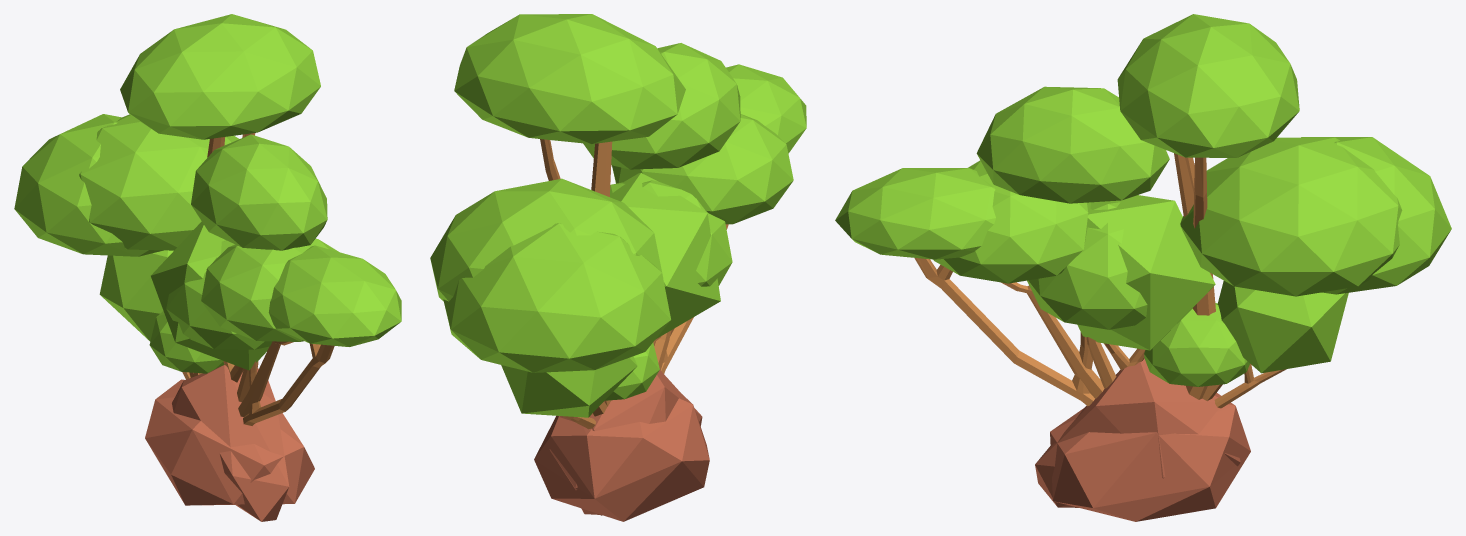
File: nature.glb
The picture shows the model from 3 angles, left to right: view 1: azimuth 30°, elevation 25°; view 2: azimuth 150°, elevation 25°; view 3: azimuth 270°, elevation 25°; orthographic projection. The views are drawn at different scales.
Parts seen in each view (by area): view 1: Tree4_Leaves, Tree2_Leaves, Rock1_Rock, Tree3_Leaves, Rock3_Rock, Tree1_Leaves, Tree4_Tree, Tree2_Tree; view 2: Tree4_Leaves, Tree2_Leaves, Rock1_Rock, Tree3_Leaves, Tree1_Leaves, Rock3_Rock, Tree4_Tree, Tree2_Tree; view 3: Tree4_Leaves, Tree2_Leaves, Tree3_Leaves, Rock1_Rock, Tree1_Leaves, Rock3_Rock, Tree4_Tree, Tree2_Tree, Tree3_Tree, Tree1_Tree.
Boxes of the visible parts, x1,y1,x2,y2 form: Tree4_Leaves: (14,14,401,346); Tree2_Leaves: (79,114,338,341); Rock1_Rock: (145,379,314,505); Tree3_Leaves: (99,221,268,370); Rock3_Rock: (172,365,289,521); Tree1_Leaves: (149,240,272,373); Tree4_Tree: (193,133,334,425); Tree2_Tree: (189,341,293,416); Tree4_Leaves: (443,14,806,372); Tree2_Leaves: (430,114,793,301); Rock1_Rock: (534,394,709,521); Tree3_Leaves: (501,173,720,417); Tree1_Leaves: (605,180,732,400); Rock3_Rock: (549,370,702,514); Tree4_Tree: (540,139,728,406); Tree2_Tree: (592,330,671,416); Tree4_Leaves: (835,14,1451,294); Tree2_Leaves: (933,137,1402,296); Tree3_Leaves: (1077,195,1348,373); Rock1_Rock: (1050,393,1250,521); Tree1_Leaves: (1027,201,1249,386); Rock3_Rock: (1035,358,1240,507); Tree4_Tree: (914,153,1215,406); Tree2_Tree: (1001,282,1222,400); Tree3_Tree: (1104,343,1286,408); Tree1_Tree: (1086,337,1116,388).
Size of the model in its own units: 3.77 by 6.96 by 7.96.
